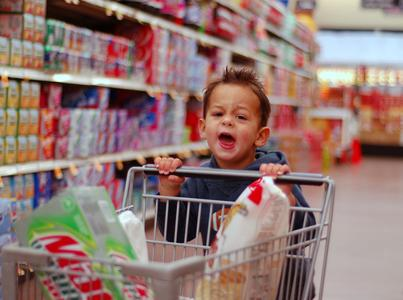person: (153, 66, 318, 300)
